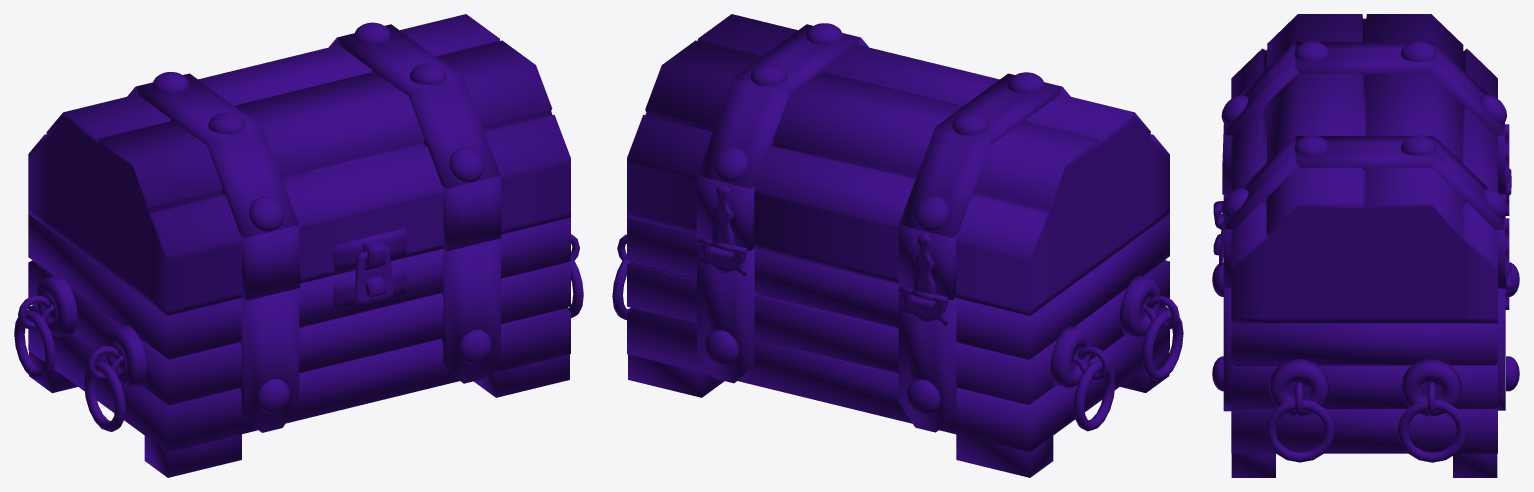
The picture shows the model from 3 angles, left to right: view 1: azimuth 30°, elevation 25°; view 2: azimuth 150°, elevation 25°; view 3: azimuth 270°, elevation 25°; orthographic projection. The views are drawn at different scales.
Visible parts, largest first — view 1: Box2, Box, Box1, Metal1, Metal2; view 2: Box2, Box, Box1, Metal1, Metal2; view 3: Box2, Box, Box1, Metal1, Metal2.
Boxes of the visible parts, left/top/right/bottom form: Box2: left=28, top=14, right=570, bottom=315; Box: left=28, top=214, right=570, bottom=452; Box1: left=29, top=24, right=569, bottom=477; Metal1: left=14, top=22, right=583, bottom=431; Metal2: left=18, top=228, right=579, bottom=379; Box2: left=627, top=14, right=1169, bottom=315; Box: left=627, top=214, right=1169, bottom=452; Box1: left=628, top=24, right=1169, bottom=477; Metal1: left=612, top=23, right=1183, bottom=431; Metal2: left=617, top=234, right=1179, bottom=379; Box2: left=1231, top=14, right=1497, bottom=323; Box: left=1231, top=323, right=1497, bottom=453; Box1: left=1222, top=42, right=1505, bottom=477; Metal1: left=1212, top=41, right=1519, bottom=462; Metal2: left=1213, top=168, right=1511, bottom=416.
Bounding box in the file's own units: 366 × 219 × 207.
